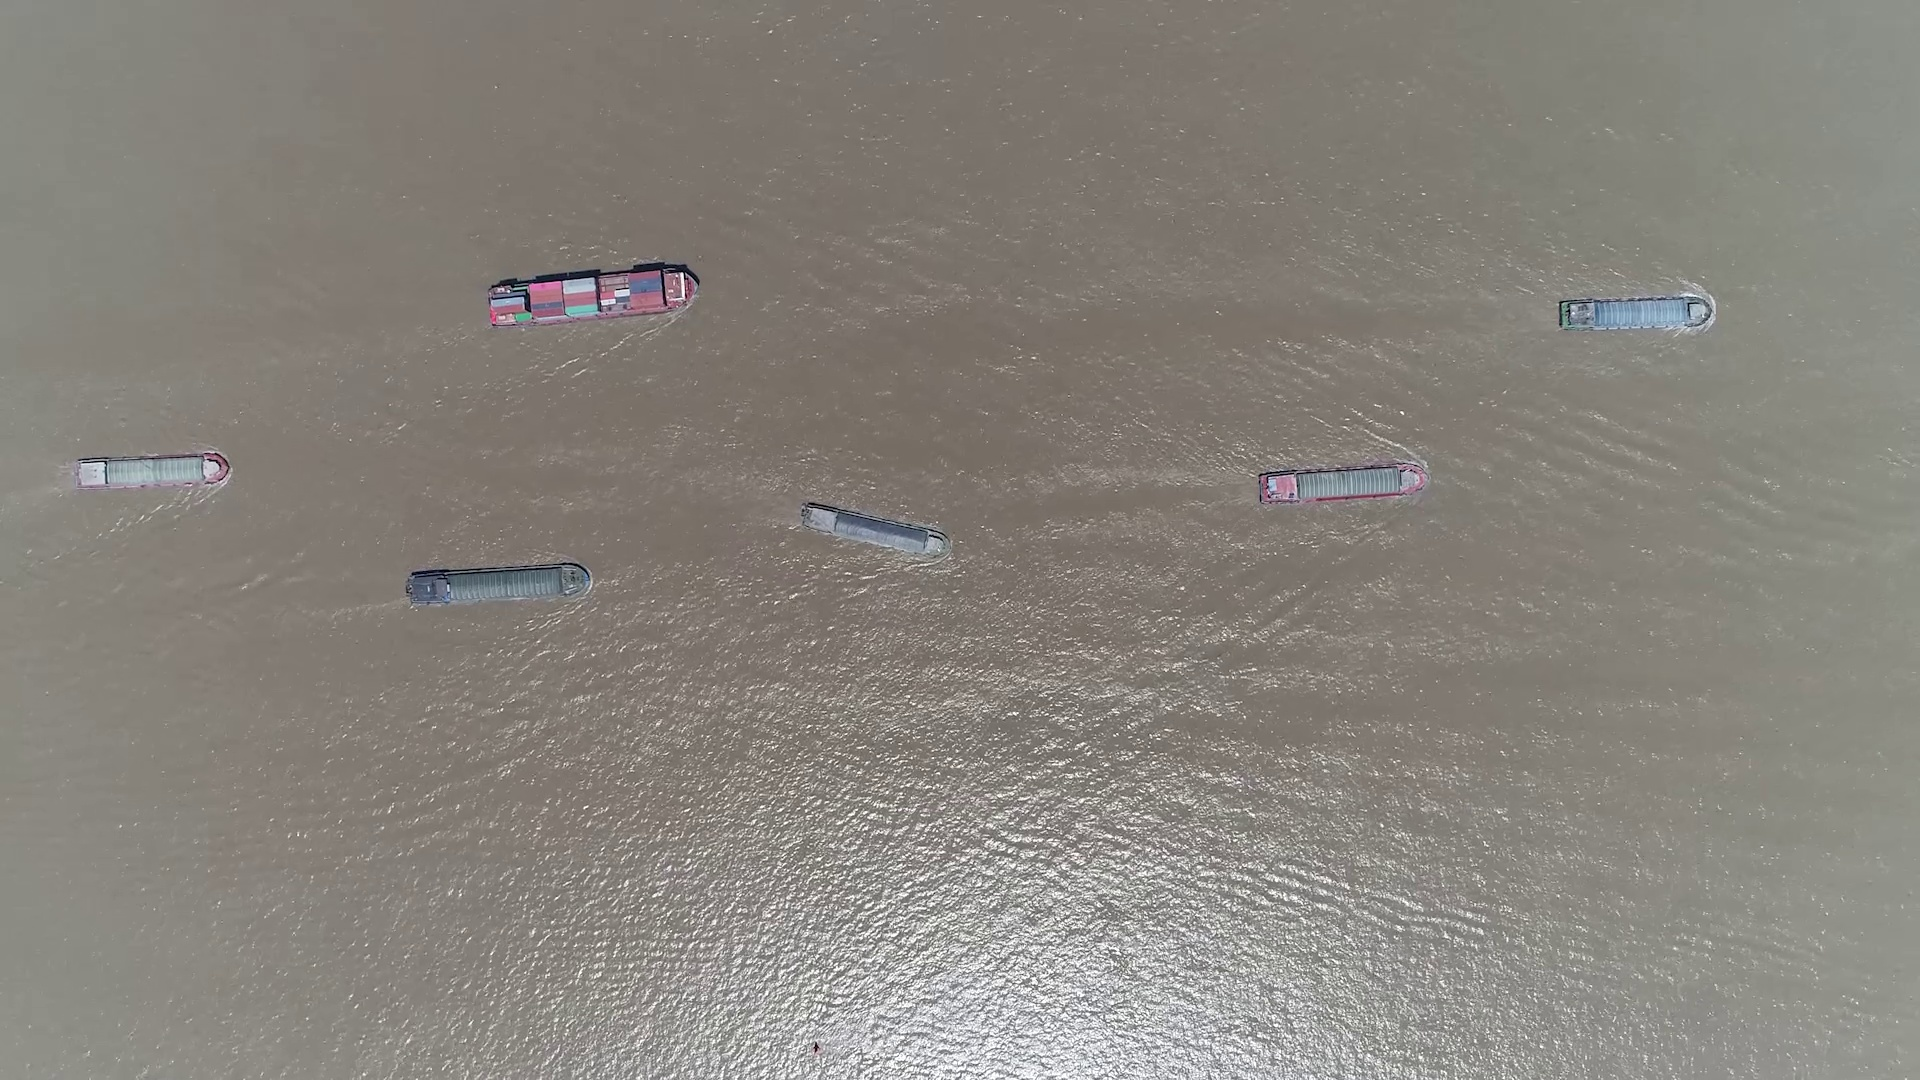ship: (487, 266, 698, 328), (799, 502, 948, 558), (405, 564, 589, 607), (1261, 462, 1428, 504), (73, 454, 228, 488), (1560, 298, 1710, 331)
